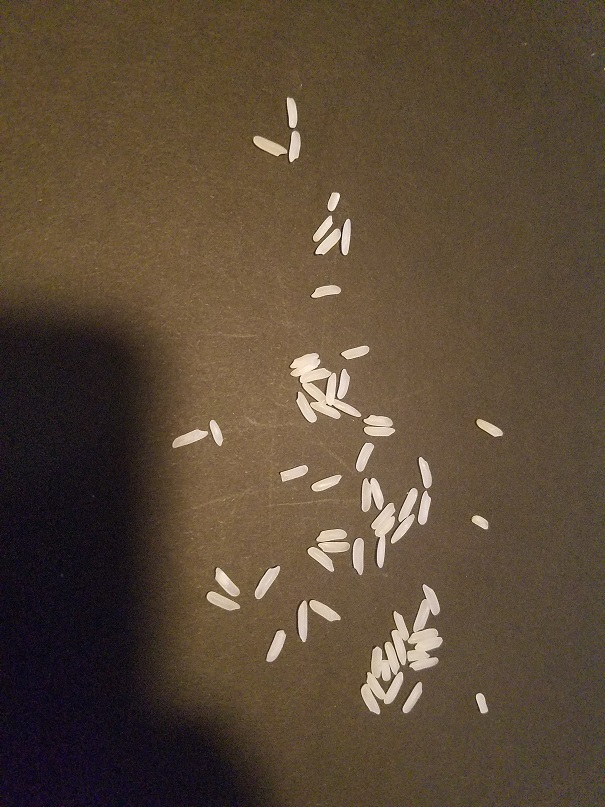egg: (252, 562, 286, 601), (308, 595, 346, 626), (399, 678, 430, 715), (212, 562, 241, 598), (291, 390, 320, 426), (248, 132, 288, 158), (203, 589, 242, 614), (326, 395, 363, 421), (312, 225, 343, 256), (304, 544, 337, 572), (357, 681, 383, 716), (265, 627, 288, 666), (413, 454, 438, 489), (472, 415, 507, 440), (396, 484, 420, 520), (348, 533, 368, 576), (307, 472, 344, 495), (416, 487, 436, 529), (392, 510, 418, 542), (421, 581, 444, 617), (353, 439, 377, 473), (369, 500, 397, 529), (363, 671, 388, 703), (308, 399, 342, 422), (385, 669, 407, 704), (282, 93, 301, 133), (166, 427, 208, 445), (301, 378, 331, 403), (276, 462, 310, 484), (359, 421, 402, 438), (308, 214, 333, 243), (286, 351, 320, 372), (205, 416, 227, 448), (391, 631, 410, 666), (405, 654, 441, 672), (287, 127, 304, 165), (296, 597, 310, 643), (308, 282, 343, 300), (369, 475, 386, 510), (391, 609, 409, 642), (293, 367, 330, 383), (413, 595, 430, 629), (340, 342, 372, 360), (290, 359, 324, 375), (379, 640, 399, 667), (359, 475, 372, 516), (340, 216, 352, 259), (375, 515, 397, 538), (369, 645, 383, 681), (338, 365, 352, 401), (415, 633, 444, 650), (318, 540, 353, 554), (315, 525, 349, 539), (375, 533, 387, 572), (325, 369, 337, 406), (364, 414, 396, 427), (408, 647, 431, 661), (418, 626, 438, 639)
